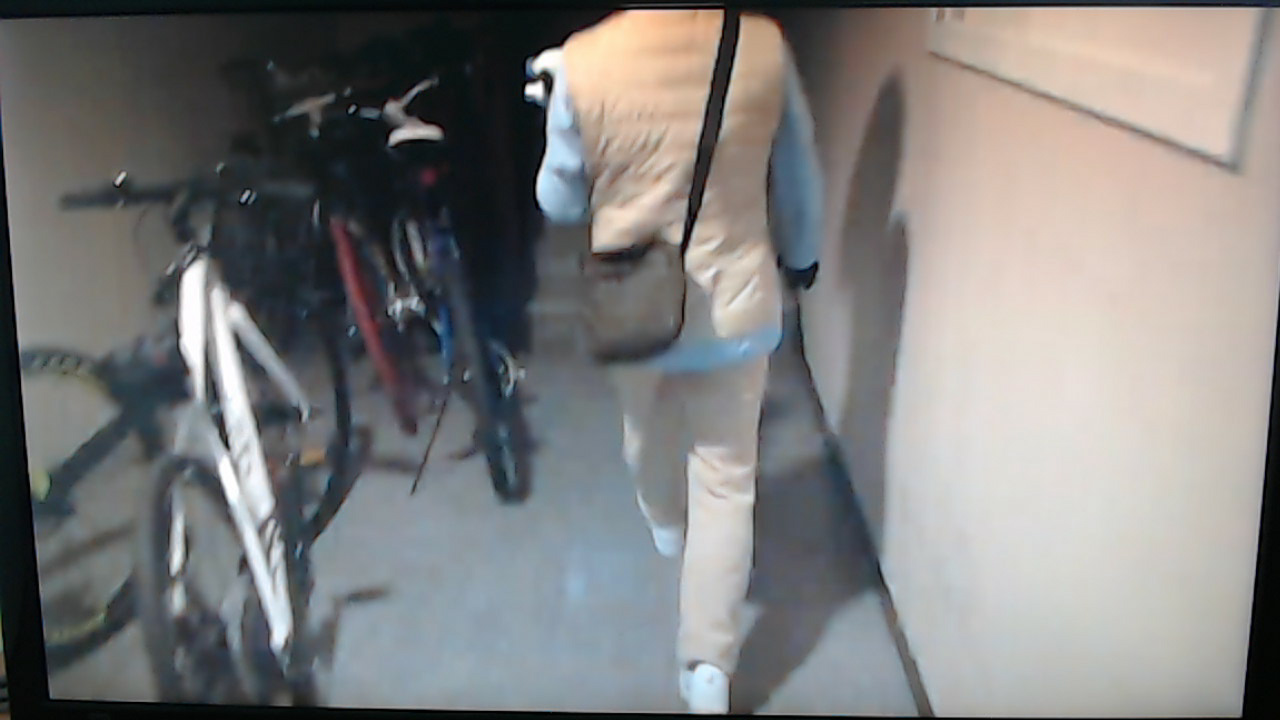Yakurut: (543, 9, 833, 720)
